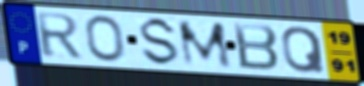B: (231, 21, 281, 73)
M: (175, 20, 236, 69)
O: (83, 14, 128, 64)
Q: (280, 25, 328, 75)
R: (33, 11, 85, 60)
S: (139, 16, 182, 68)
